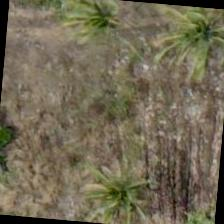Kelapa_Sawit: (68, 140, 167, 223), (49, 0, 145, 61), (155, 4, 223, 82)
